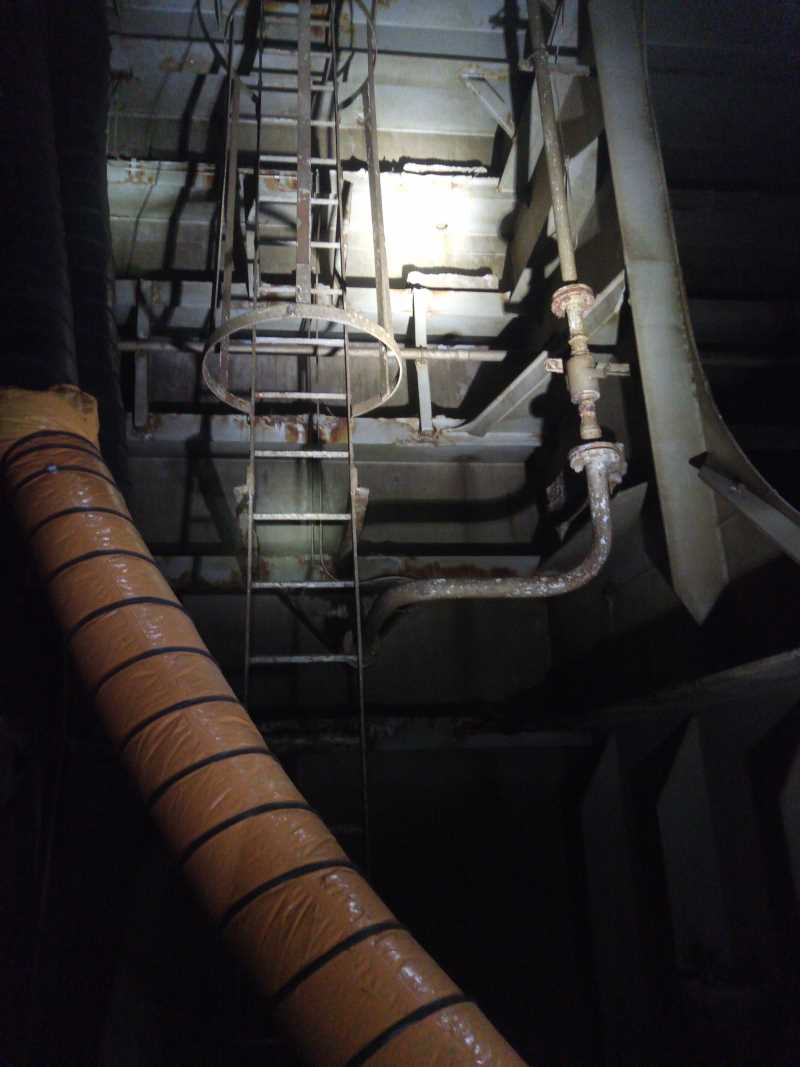corrosion: (396, 576, 551, 604), (254, 411, 354, 443), (555, 558, 615, 593), (591, 472, 613, 547), (158, 45, 207, 71), (241, 558, 277, 587), (549, 287, 594, 310), (261, 168, 300, 191), (404, 426, 451, 445)
